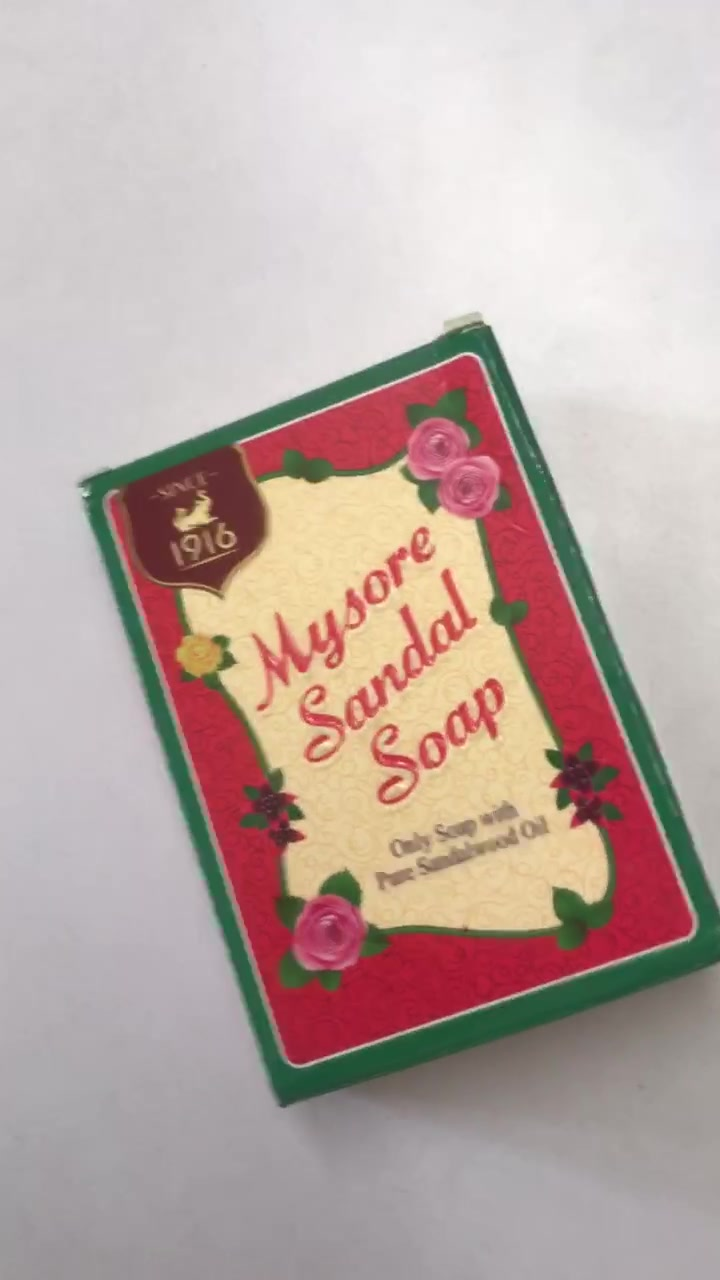mysore sandal soap: (71, 316, 713, 1105)
